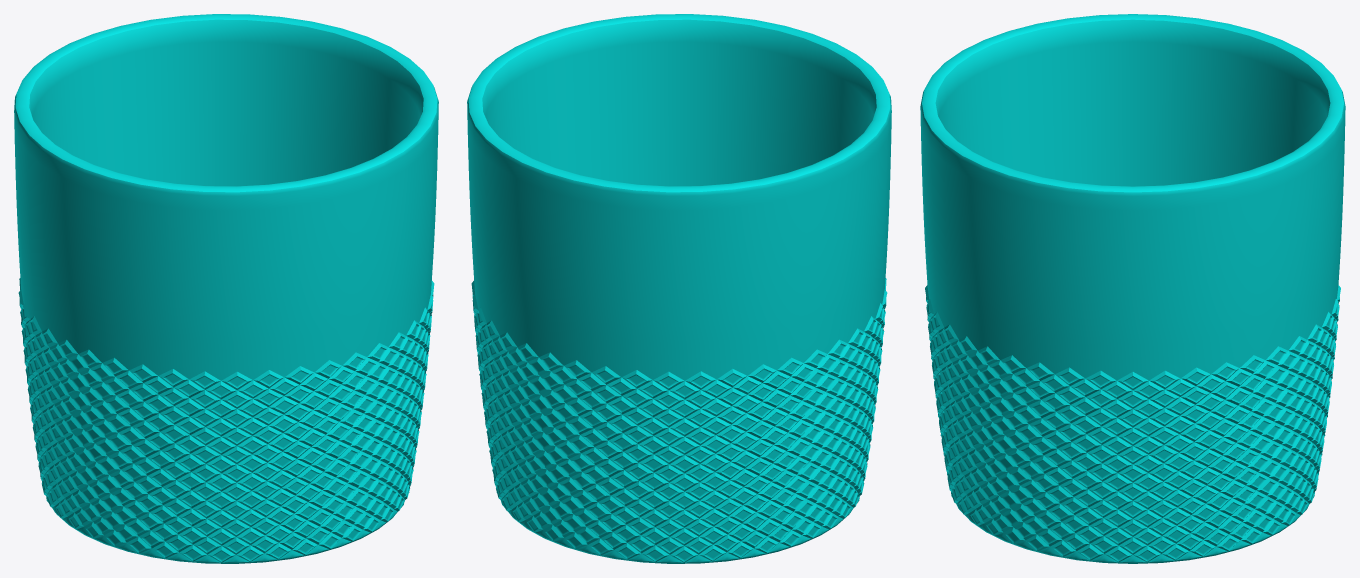
The model's file is DoubleRocksGlass_V2.fbx.
3 renders of one model, left to right at view 1: azimuth 30°, elevation 25°; view 2: azimuth 150°, elevation 25°; view 3: azimuth 270°, elevation 25°, orthographic.
Visible parts, largest first — view 1: DoubleRocksGlass_Outer, DoubleRocksGlass_Inner; view 2: DoubleRocksGlass_Outer, DoubleRocksGlass_Inner; view 3: DoubleRocksGlass_Outer, DoubleRocksGlass_Inner.
Part boxes in pixels (<box>): DoubleRocksGlass_Outer: <box>14,14,438,563</box>; DoubleRocksGlass_Inner: <box>32,42,420,186</box>; DoubleRocksGlass_Outer: <box>467,14,891,563</box>; DoubleRocksGlass_Inner: <box>485,42,873,186</box>; DoubleRocksGlass_Outer: <box>920,14,1345,563</box>; DoubleRocksGlass_Inner: <box>939,42,1326,186</box>.
Bounding box in the file's own units: 0.1806 × 0.1807 × 0.1806.
